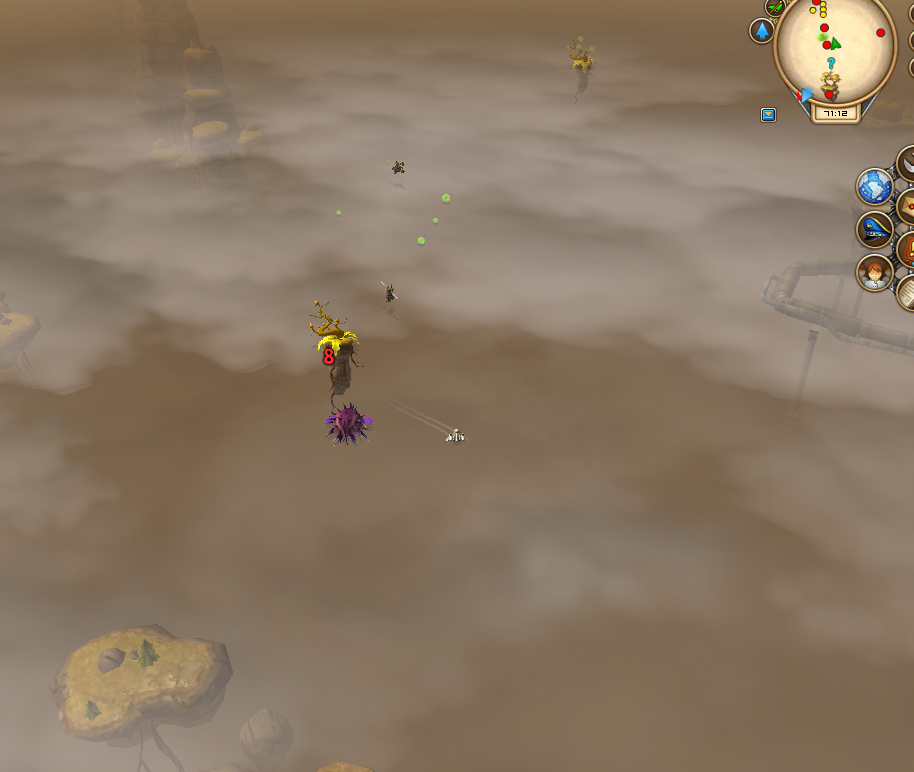dandelion-empty: (303, 291, 360, 394)
dandelion-full: (562, 27, 600, 92)
fluff: (438, 192, 452, 205), (415, 234, 427, 246), (334, 207, 343, 218), (430, 215, 439, 226)
